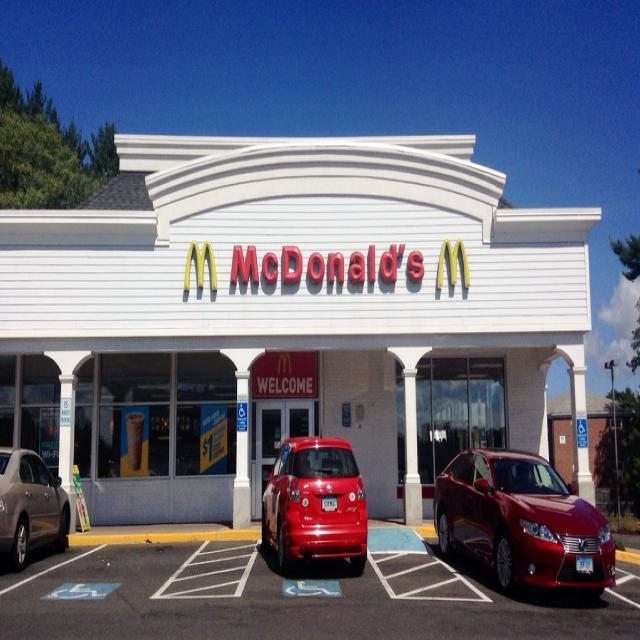car: (432, 448, 615, 589), (261, 429, 366, 572)
